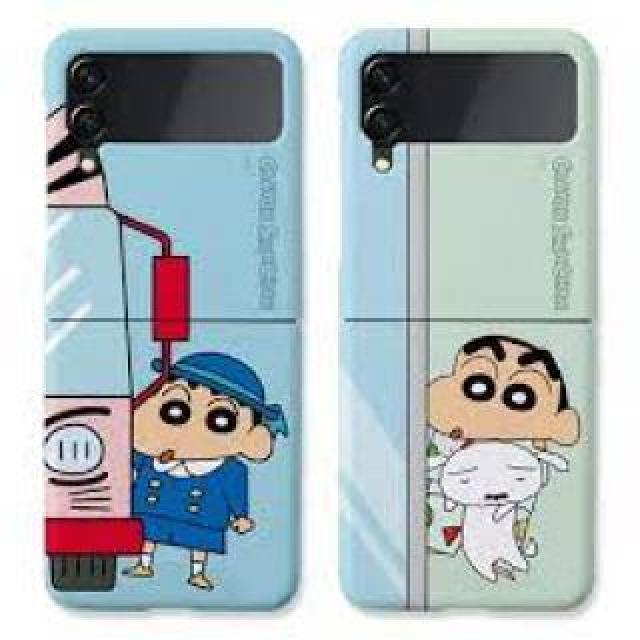smart phone: (20, 10, 307, 633), (325, 15, 605, 617)
